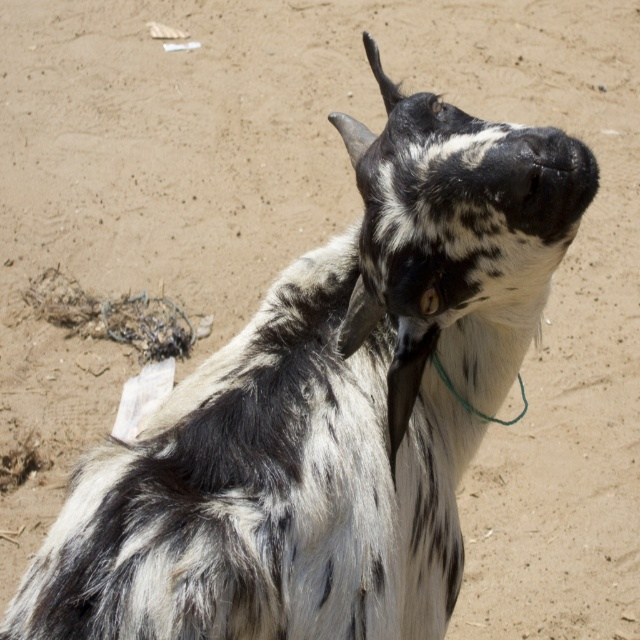Goat: (15, 41, 584, 622)
